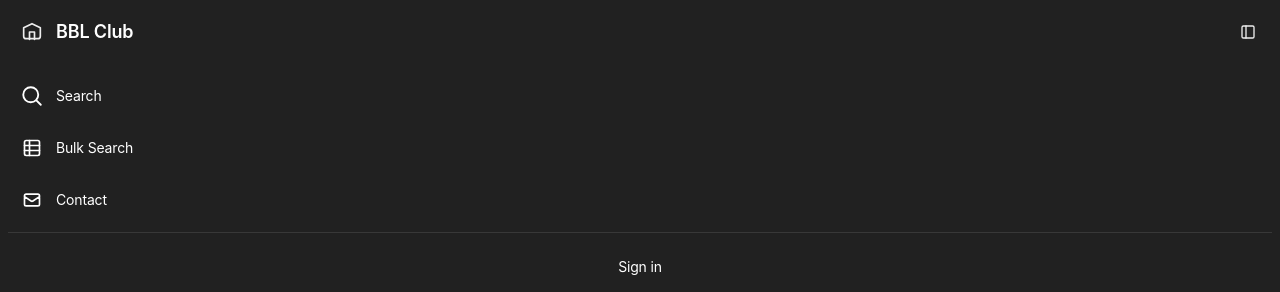
Test: SidebarNav › Collapsed State › can expand sidebar after collapsing
This screenshot has width=1280, height=292.
Click the button named "Collapse sidebar". click: (1248, 32)
box: 1224,8 -> 1272,56
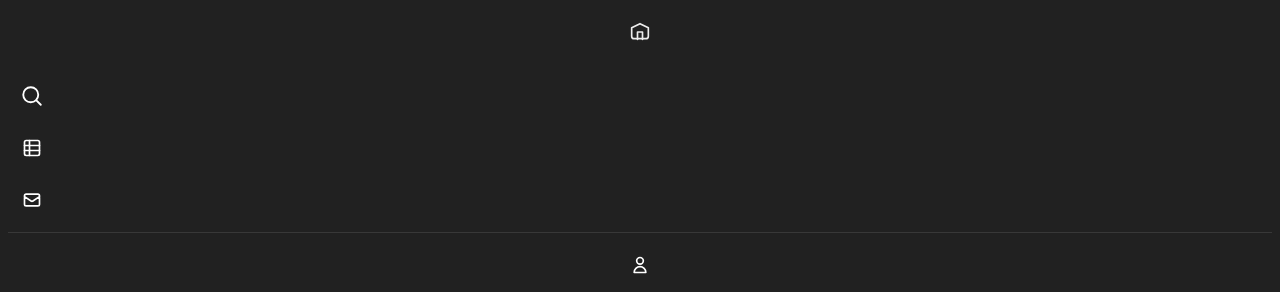
expect the text "Search" is gone: met
Click the button named "Expand sidebar". click: (640, 32)
box: 616,8 -> 664,56
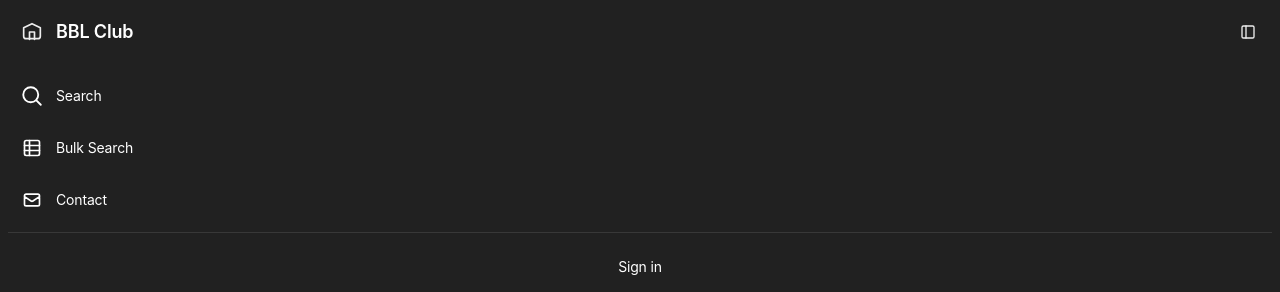
expect the text "Search" is shown: met, box 56,86 -> 102,106
expect the text "Bulk Search" is shown: met, box 56,138 -> 133,158
